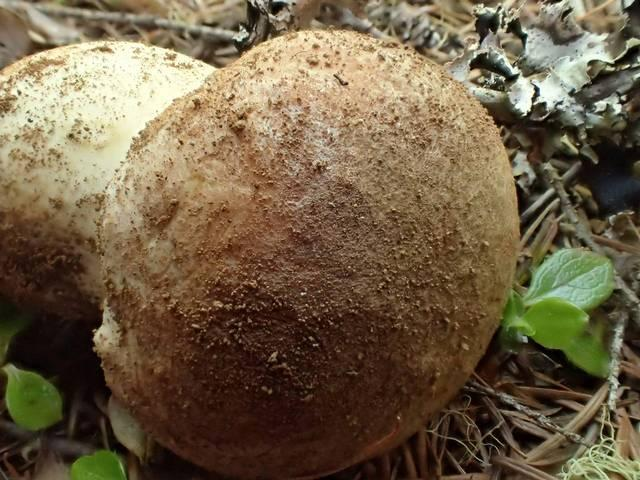edible_mushroom: (0, 19, 521, 478)
